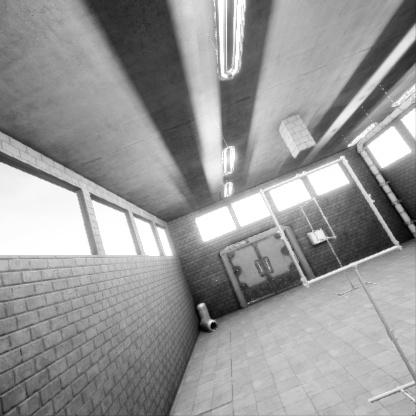gate: (260, 134, 399, 259), (299, 176, 335, 219)
